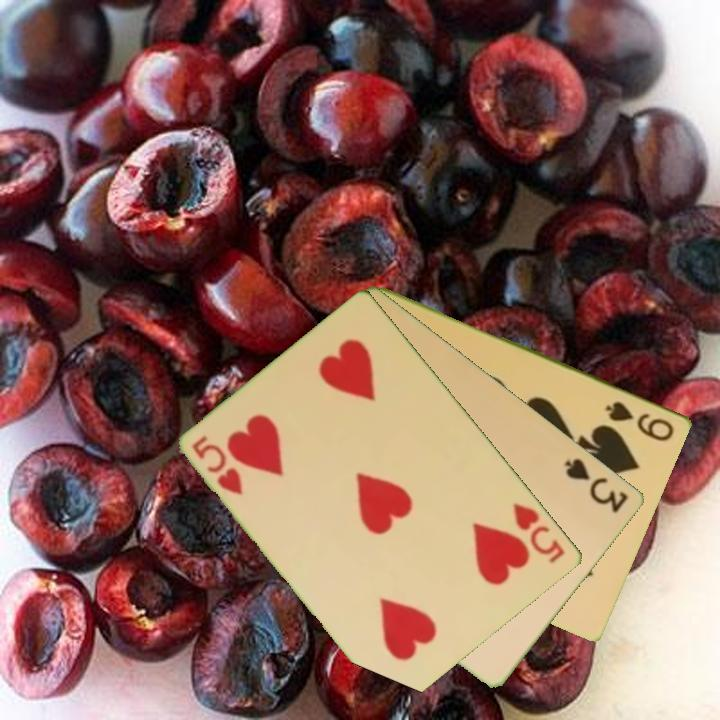3s: (561, 454, 632, 516)
5h: (510, 499, 569, 567), (189, 431, 247, 499)
9s: (602, 397, 678, 444)
